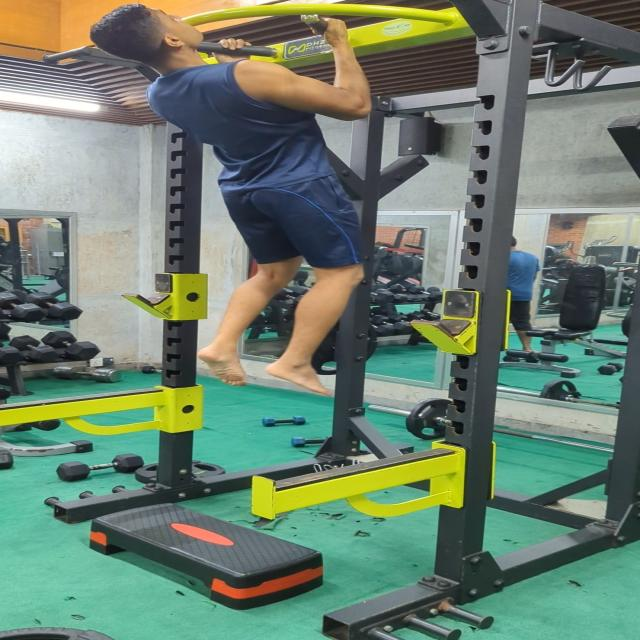Normal_PullUps: (90, 2, 376, 396)
